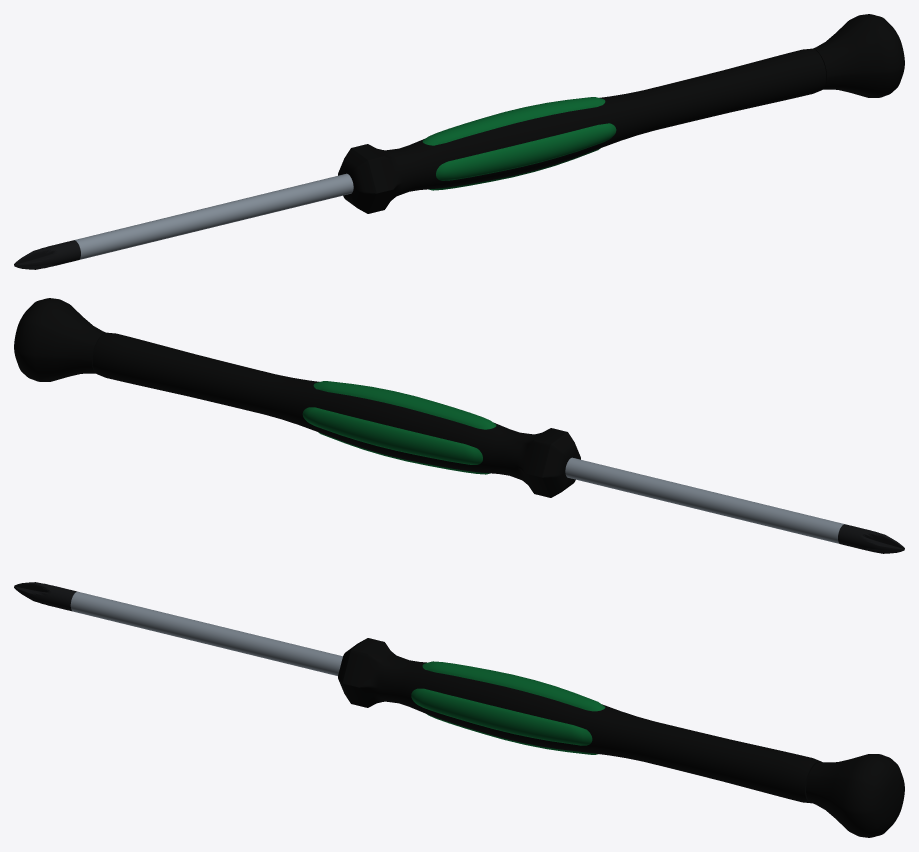
3 renders of one model, top to bottom at view 1: azimuth 30°, elevation 25°; view 2: azimuth 150°, elevation 25°; view 3: azimuth 330°, elevation 25°, orthographic.
Parts seen in each view (by area): view 1: part_007_Contoured_handle_core, part_000_Round_shaft_and_embedded_tang, part_001_Rotating_palm_cap, part_003_Longitudinal_grip_pad_3, part_004_Longitudinal_grip_pad_2, part_006_Cruciform_working_tip; view 2: part_007_Contoured_handle_core, part_000_Round_shaft_and_embedded_tang, part_001_Rotating_palm_cap, part_005_Longitudinal_grip_pad_1, part_004_Longitudinal_grip_pad_2, part_006_Cruciform_working_tip; view 3: part_007_Contoured_handle_core, part_001_Rotating_palm_cap, part_000_Round_shaft_and_embedded_tang, part_003_Longitudinal_grip_pad_3, part_004_Longitudinal_grip_pad_2, part_006_Cruciform_working_tip.
Part boxes in pixels (x1,y1,x2,y2): part_007_Contoured_handle_core: (338,48,826,213); part_000_Round_shaft_and_embedded_tang: (74,173,353,259); part_001_Rotating_palm_cap: (813,14,904,97); part_003_Longitudinal_grip_pad_3: (436,123,616,180); part_004_Longitudinal_grip_pad_2: (422,97,605,145); part_006_Cruciform_working_tip: (14,240,80,269); part_007_Contoured_handle_core: (92,332,580,497); part_000_Round_shaft_and_embedded_tang: (565,457,844,543); part_001_Rotating_palm_cap: (14,298,105,381); part_005_Longitudinal_grip_pad_1: (302,407,482,464); part_004_Longitudinal_grip_pad_2: (313,381,496,429); part_006_Cruciform_working_tip: (838,524,904,553); part_007_Contoured_handle_core: (338,638,821,803); part_001_Rotating_palm_cap: (806,754,904,837); part_000_Round_shaft_and_embedded_tang: (70,591,342,675); part_003_Longitudinal_grip_pad_3: (411,688,592,745); part_004_Longitudinal_grip_pad_2: (422,661,605,711); part_006_Cruciform_working_tip: (14,582,76,611).
Size of the model in its own units: 0.158 by 0.0134 by 0.0134.
